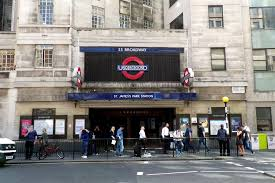London Underground: (116, 56, 148, 81), (177, 68, 196, 88), (72, 65, 85, 88)
